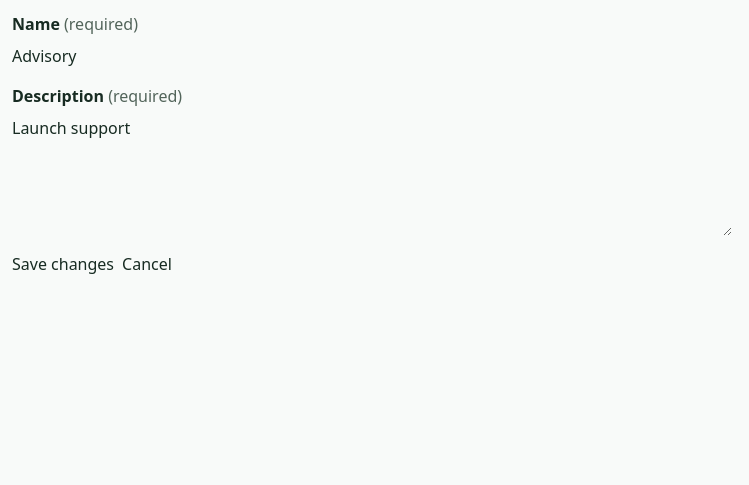
configuration drafts › pauses an uncertain save until a successful refresh, keeps the draft, then cancels to refreshed values
The width and height of the screenshot is (749, 485).
Step 1. Replace the text in the field with id "offering-name" with "My unsent draft" → (372, 56), box [12,44,732,68]
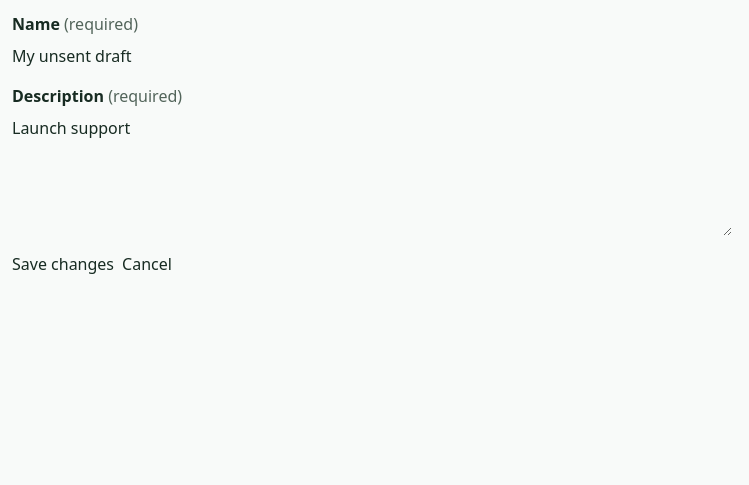
Step 2. Submit the form, box [12,12,732,276]
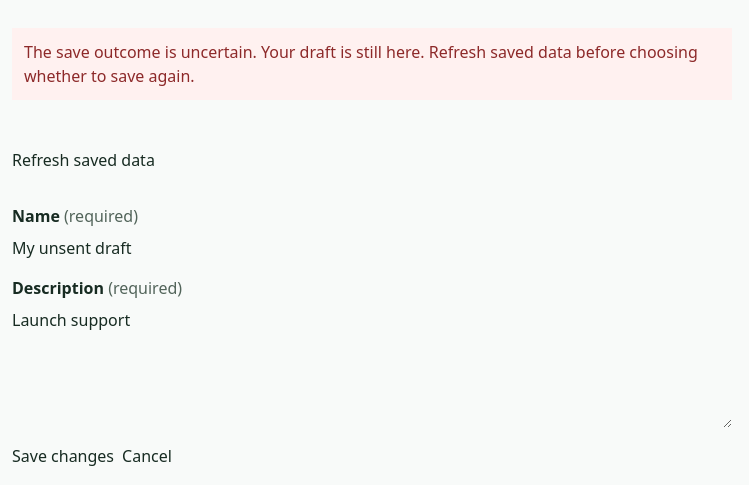
Now the form shows "outcome is uncertain", box [24,41,698,87]
Now the submit button is disabled, box [12,444,114,468]
Step 3. Click the button "Refresh saved data" → (83, 160), box [12,148,155,172]
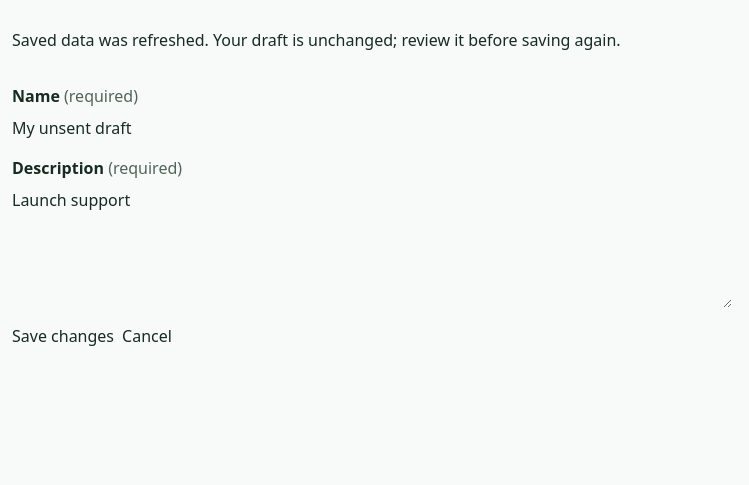
Step 4. Click the button "Cancel" → (147, 336), box [122,324,172,348]
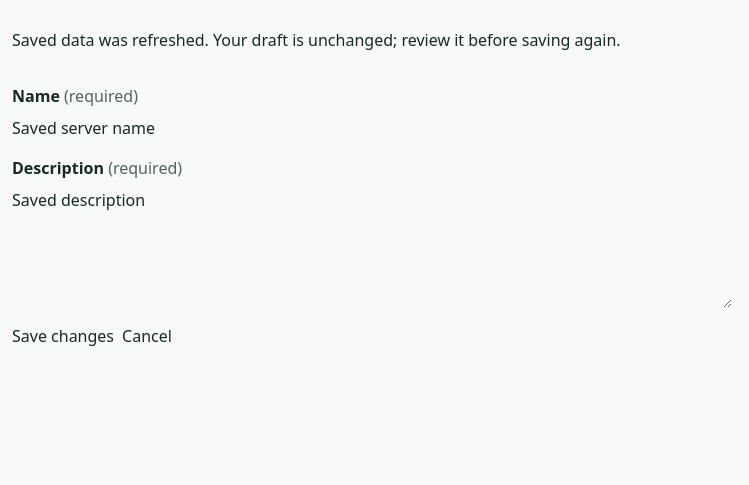
Now the field with id "offering-name" holds "Saved server name", box [12,116,732,140]
